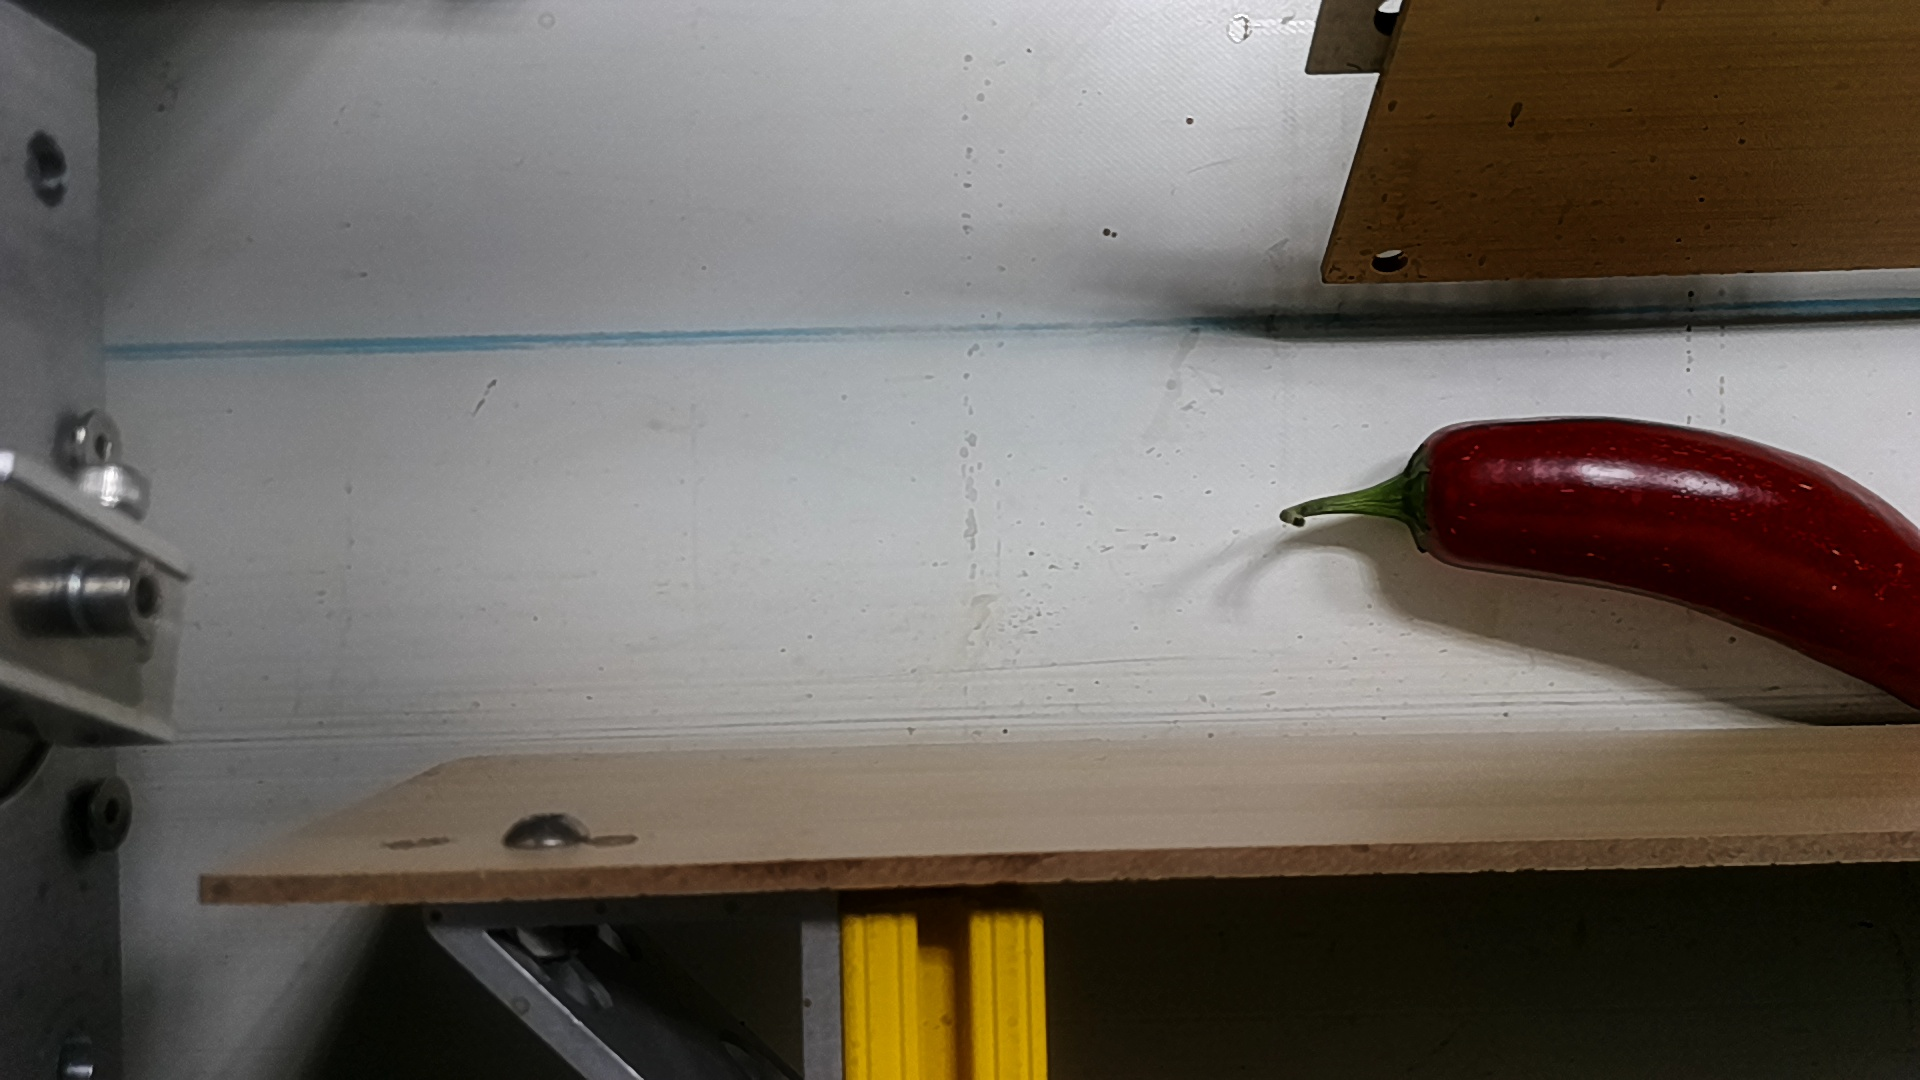Cut Point: (1371, 422, 1484, 575)
